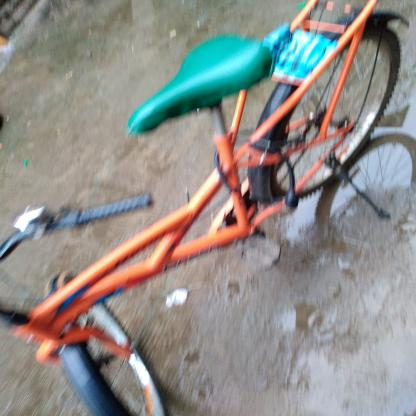bike: (1, 0, 405, 414)
